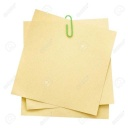Metal: (58, 11, 85, 42)
